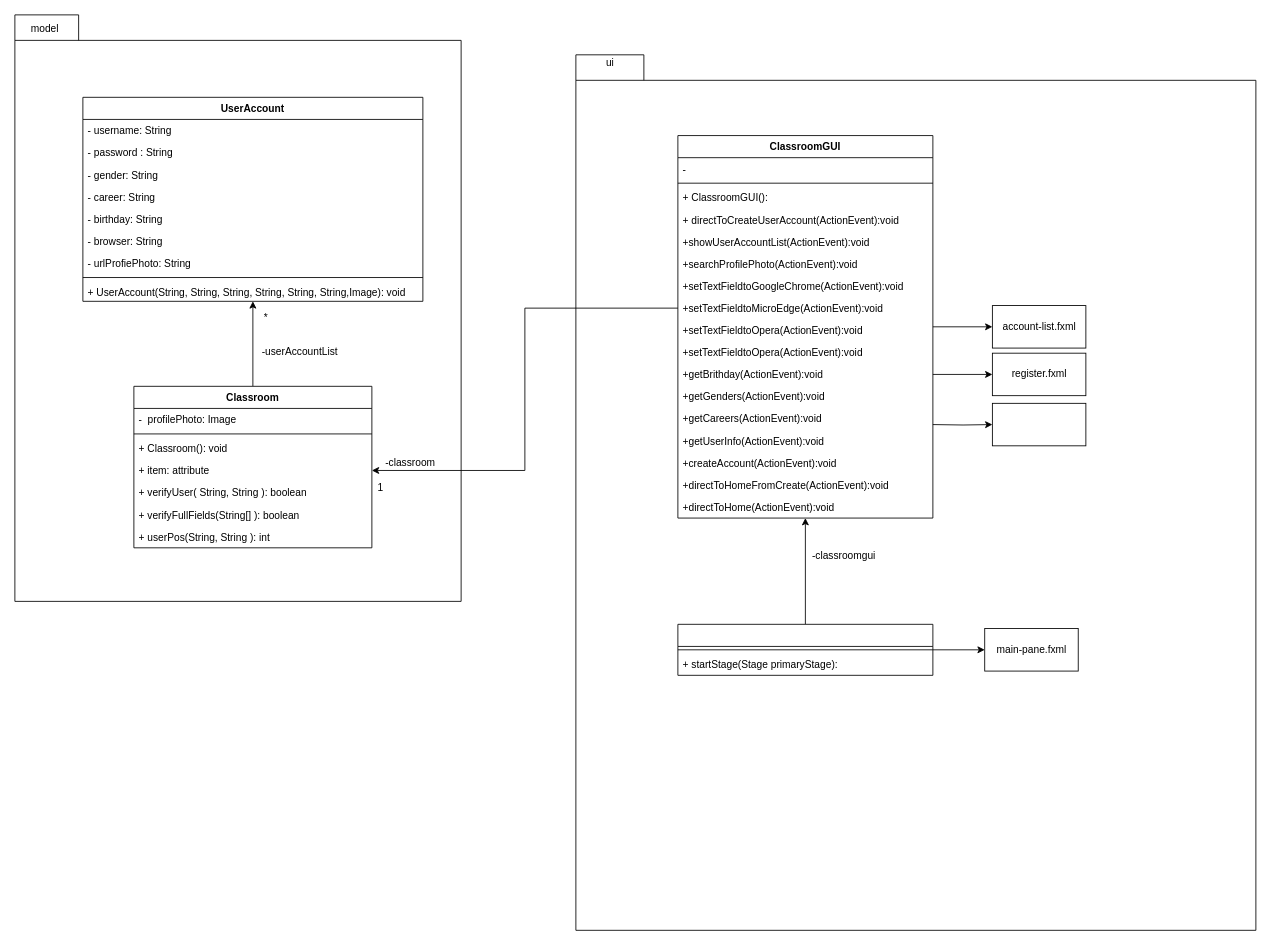
Some shapes in this 1271 by 945 pixel diagram are drawn without their labels. Each missing label, with the box of its shape:
login.fxml: (992, 402, 1086, 446)
Main: (677, 623, 933, 675)
